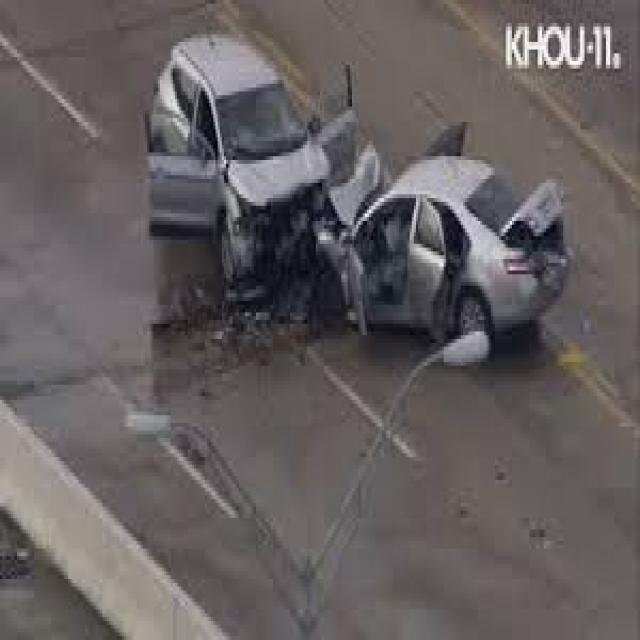accident: (170, 0, 562, 347)
